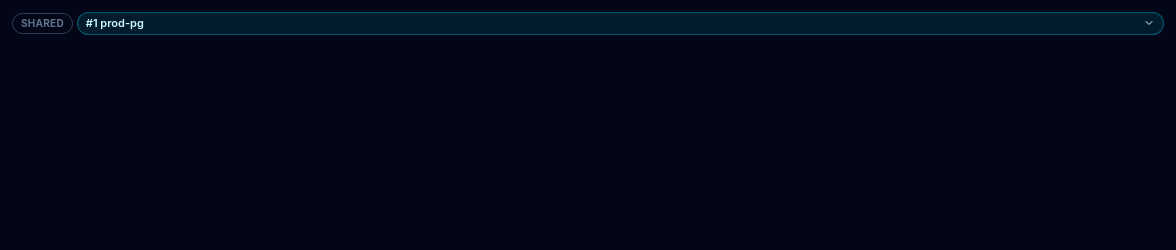
destination picker (chips variant) › filters on more than the visible name
The image size is (1176, 250).
Click the button with test id "sql-destinations-trigger". click: {"x": 115, "y": 23}
box: [77,12,1164,34]
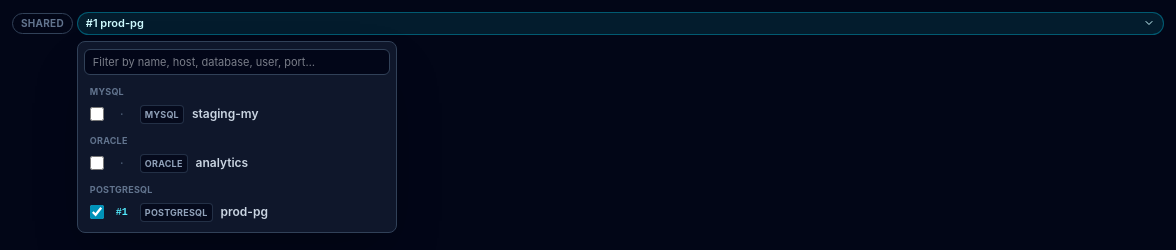
Type "oracle" into the field with test id "sql-destinations-filter". click: {"x": 237, "y": 62}
box: [84,48,390,75]
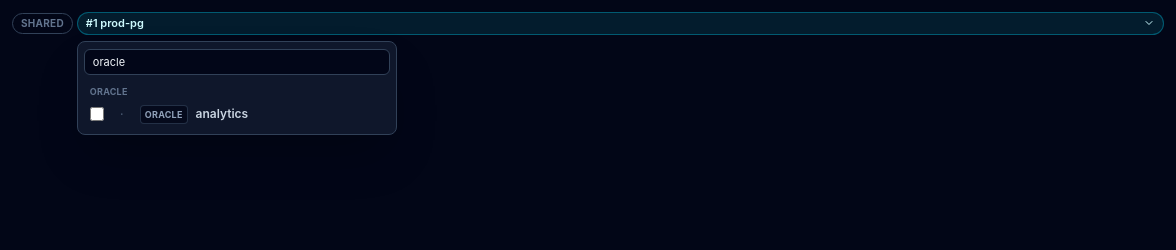
Expected: the text "· Oracle analytics" is shown, [90,104,248,124]
Expected: the label with test id "sql-dest-option-prod-pg" is gone
Replace the text in the field with test id "sql-destinations-filter" with "shop". click: {"x": 237, "y": 62}
box: [84,48,390,75]
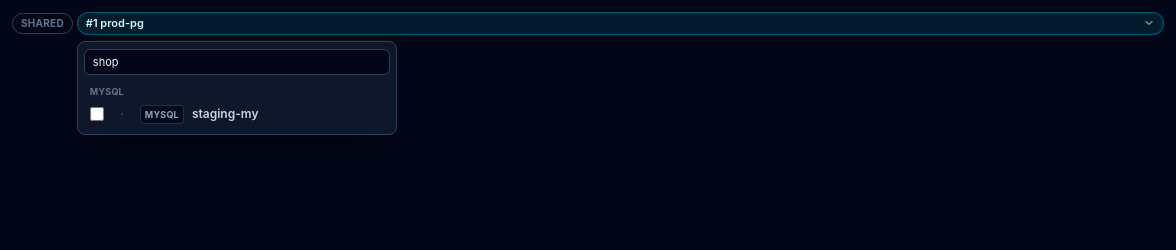
Expected: the text "· MySQL staging-my" is shown, [90,104,258,124]
Replace the text in the field with test id "sql-destinations-filter" with "10.0.0.1". click: {"x": 237, "y": 62}
box: [84,48,390,75]
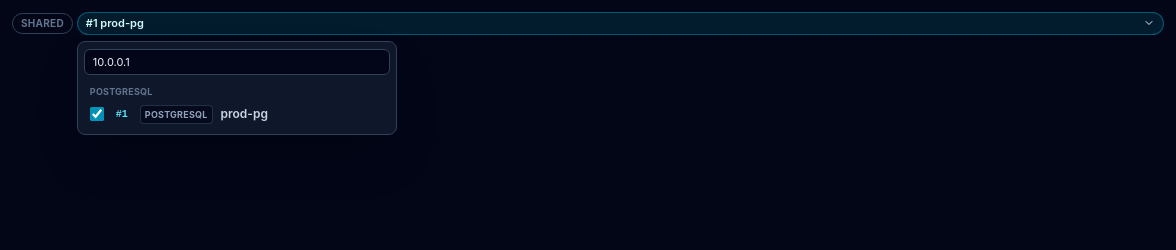
Expected: the text "#1 PostgreSQL prod-pg" is shown, [90,104,268,124]
